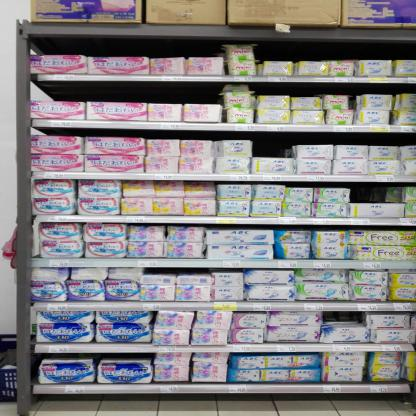Void: (37, 80, 220, 102), (30, 32, 219, 52), (255, 36, 413, 58), (262, 83, 414, 94), (252, 132, 290, 156), (152, 264, 214, 277), (355, 183, 398, 201), (328, 312, 368, 325)
